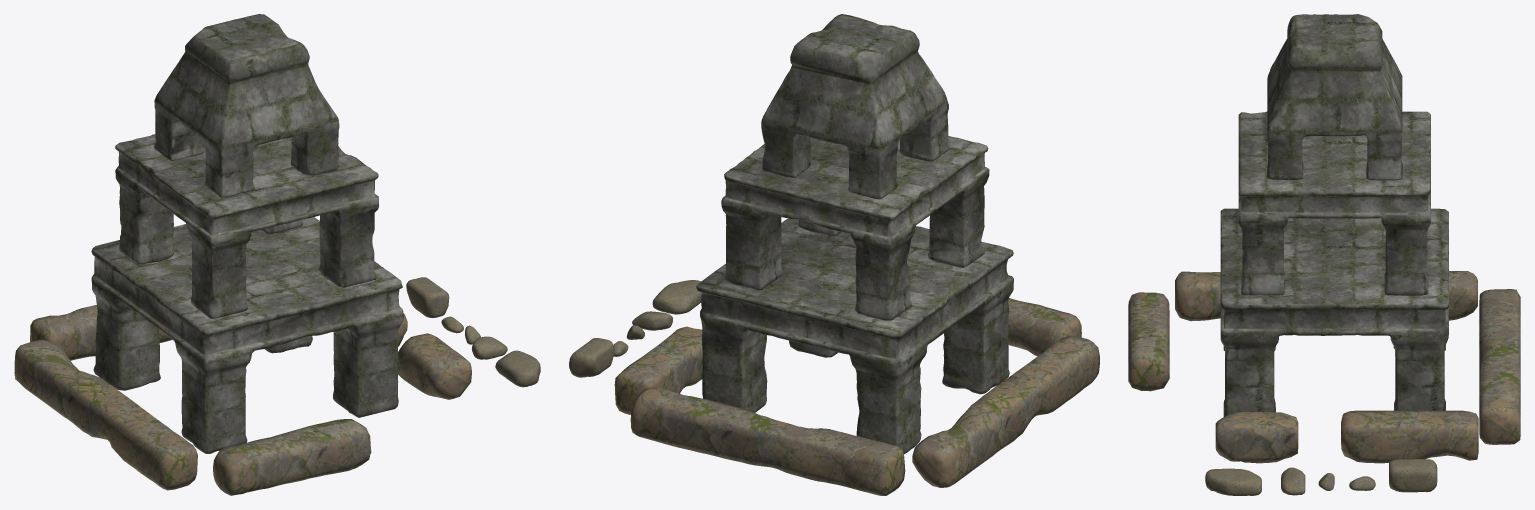
Rendered from old_ruined_temple.glb.
3 renders of one model, left to right at view 1: azimuth 30°, elevation 25°; view 2: azimuth 150°, elevation 25°; view 3: azimuth 270°, elevation 25°, orthographic. The views are drawn at different scales.
Visible parts, largest first — view 1: defaultMaterial (×3); view 2: defaultMaterial (×3); view 3: defaultMaterial (×3).
Part boxes in pixels (box(x1,y1,x2,y2)): defaultMaterial (×3): box(14, 14, 540, 495); defaultMaterial (×3): box(569, 14, 1099, 495); defaultMaterial (×3): box(1128, 14, 1520, 495).
Size of the model in its own units: 2 by 1.7 by 1.71.
Materials: 3 (3 with a texture image).
